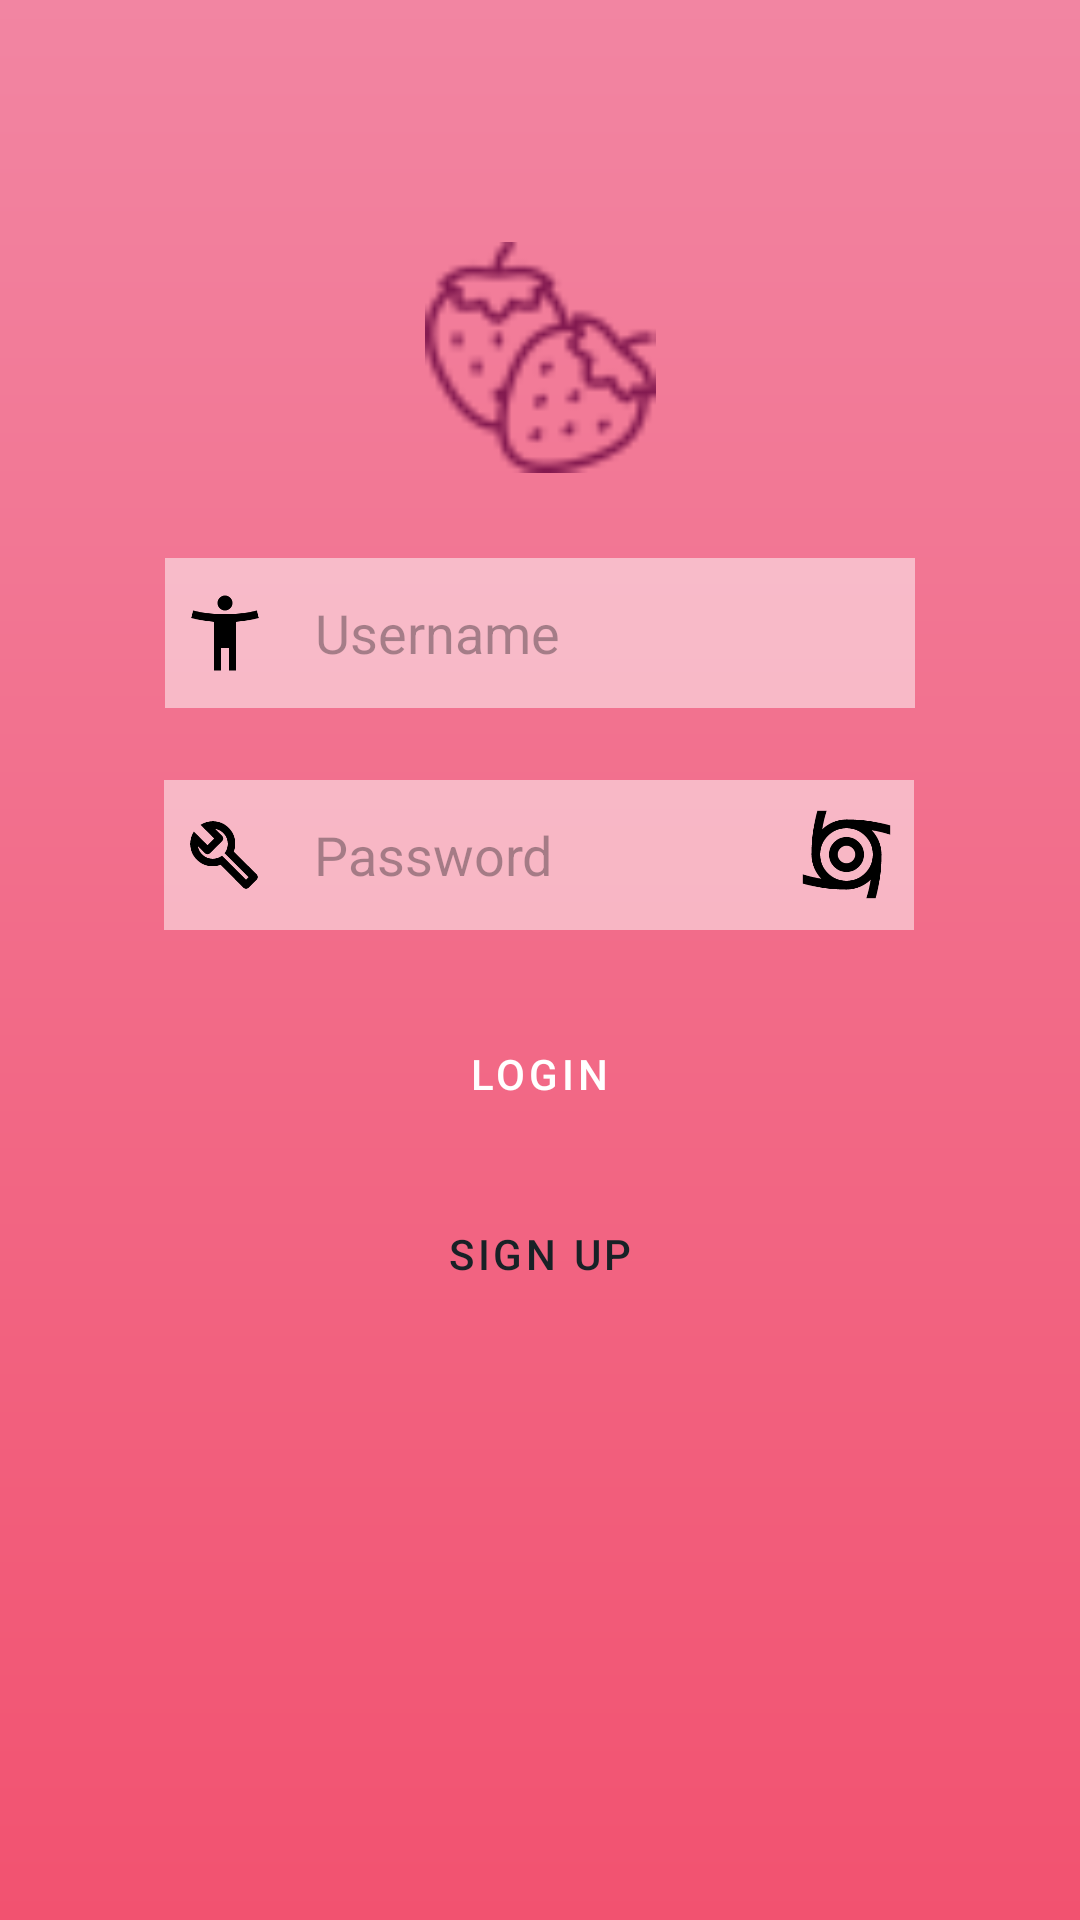

Screen size 1080w x 1920h. Icon name, then its box in pixels as Rect(x1, y1, x2, y2):
fresitas: Rect(425, 242, 656, 473)
